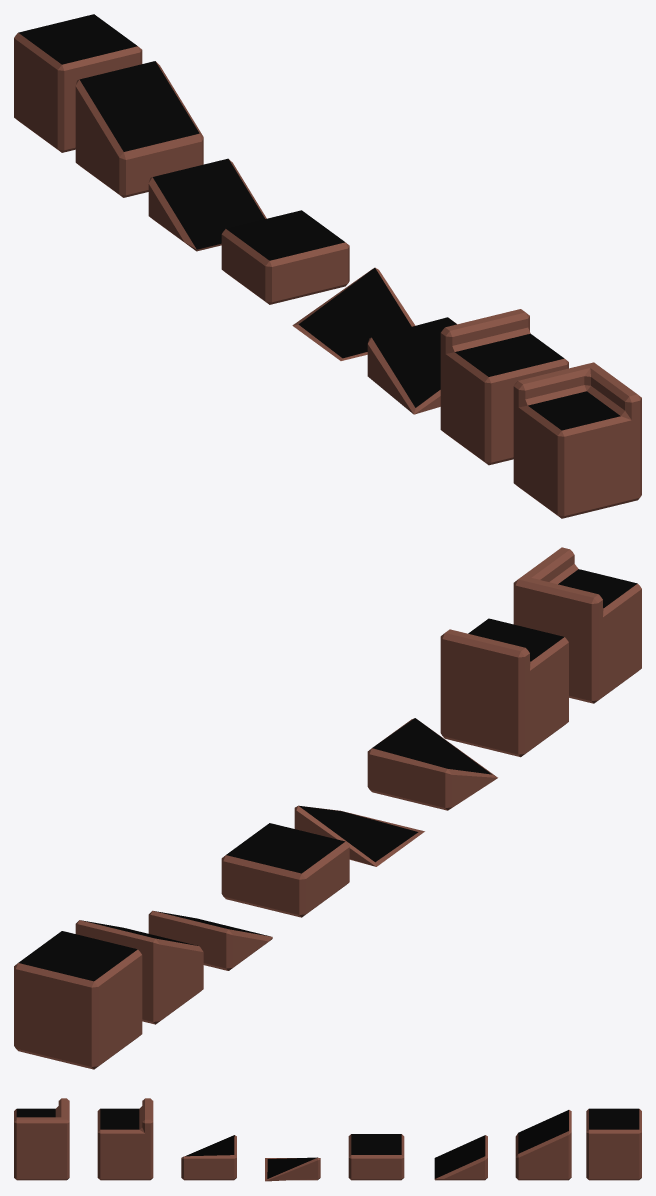
File: world2-blocks.glb
The picture shows the model from 3 angles, top to bottom: view 1: azimuth 30°, elevation 25°; view 2: azimuth 150°, elevation 25°; view 3: azimuth 270°, elevation 25°; orthographic projection. The views are drawn at different scales.
Parts seen in each view (by area): view 1: BlockWallCorner, RampTop, BlockWall, Block, BlockShort, RampBottom, RampCorner1, RampCorner2; view 2: BlockWall, Block, BlockWallCorner, BlockShort, RampCorner2, RampTop, RampCorner1, RampBottom; view 3: BlockWall, BlockWallCorner, Block, RampTop, BlockShort, RampCorner2, RampBottom, RampCorner1.
Boxes of the visible parts, x1,y1,x2,y2 form: BlockWallCorner: (513, 362, 641, 518); RampTop: (75, 61, 203, 197); BlockWall: (440, 309, 568, 465); Block: (14, 14, 142, 152); BlockShort: (221, 210, 349, 304); RampBottom: (148, 158, 266, 251); RampCorner1: (292, 267, 415, 360); RampCorner2: (367, 317, 456, 414); BlockWall: (440, 618, 568, 757); Block: (14, 931, 142, 1069); BlockWallCorner: (513, 547, 641, 703); BlockShort: (221, 823, 349, 917); RampCorner2: (367, 718, 497, 810); RampTop: (75, 920, 203, 1024); RampCorner1: (294, 805, 424, 866); RampBottom: (148, 910, 272, 970); BlockWall: (97, 1098, 153, 1180); BlockWallCorner: (14, 1098, 69, 1180); Block: (586, 1108, 641, 1180); RampTop: (515, 1110, 571, 1180); BlockShort: (348, 1134, 404, 1180); RampCorner2: (181, 1135, 236, 1180); RampBottom: (434, 1135, 487, 1180); RampCorner1: (265, 1157, 320, 1181).
Size of what is drawn, in the model's own units: 2 by 2.4 by 22.53.
